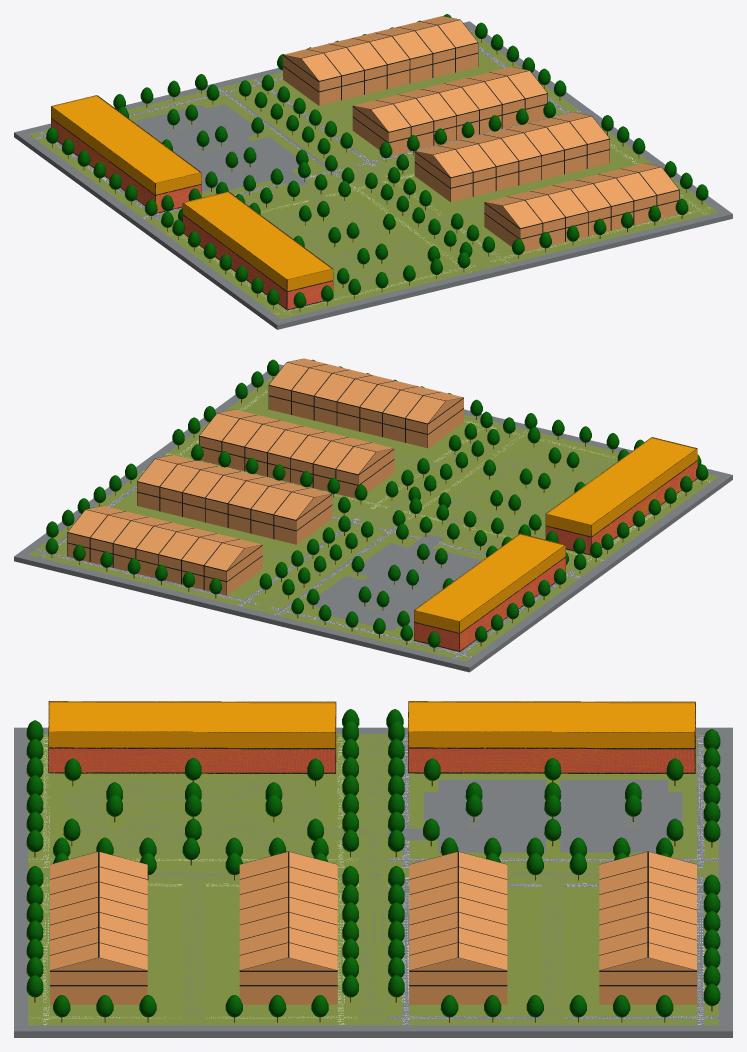
Rendered from townhome_commercial_B.dae.
3 views of the same model, one above another, from view 1: azimuth 30°, elevation 25°; view 2: azimuth 150°, elevation 25°; view 3: azimuth 270°, elevation 25° (orthographic). The views are drawn at different scales.
Parts seen in each view (by area): view 1: group_1 (×19), _10k_Commercial (×11), Component_8 (×29); view 2: group_1 (×19), _10k_Commercial (×11), Component_8 (×29); view 3: group_1 (×19), Component_8 (×72), _10k_Commercial (×8).
Boxes of the visible parts, bbox=[...] form: group_1 (×19): bbox=[14, 21, 732, 329]; _10k_Commercial (×11): bbox=[51, 95, 333, 310]; Component_8 (×29): bbox=[302, 20, 678, 227]; group_1 (×19): bbox=[14, 364, 732, 672]; _10k_Commercial (×11): bbox=[414, 437, 697, 651]; Component_8 (×29): bbox=[68, 362, 444, 570]; group_1 (×19): bbox=[14, 727, 732, 1037]; Component_8 (×72): bbox=[50, 852, 696, 1004]; _10k_Commercial (×8): bbox=[48, 701, 695, 773].
Size of the model in its own units: 102 by 102 by 8.36.
